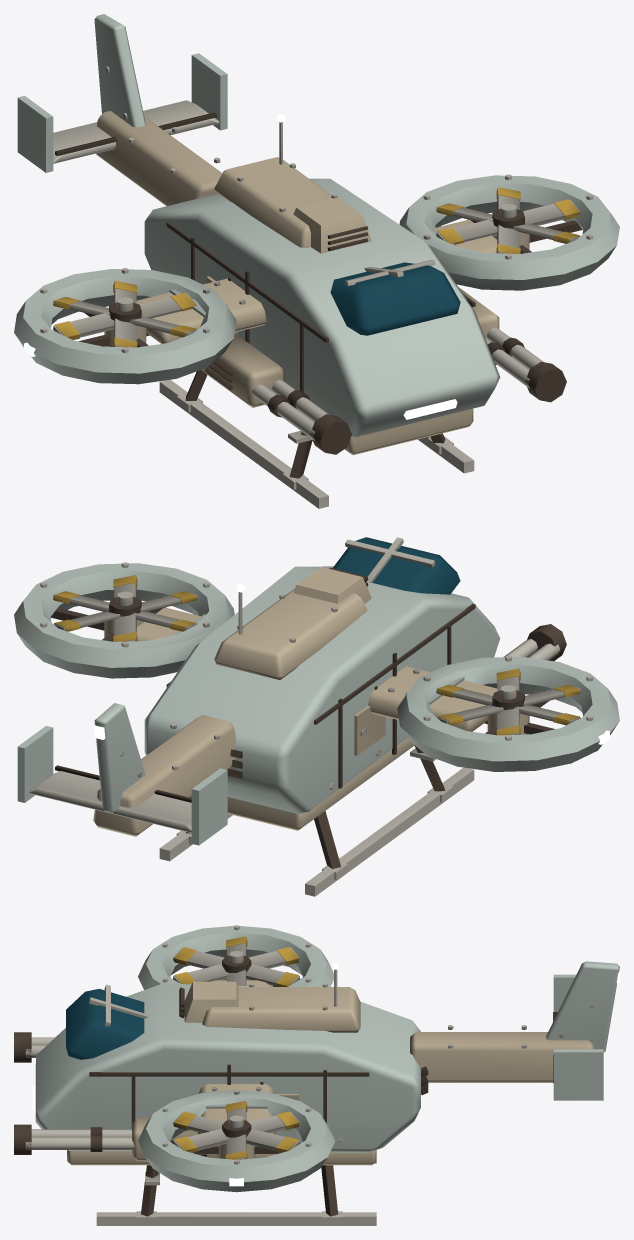
File: hawk.glb
The picture shows the model from 3 angles, top to bottom: view 1: azimuth 30°, elevation 25°; view 2: azimuth 150°, elevation 25°; view 3: azimuth 270°, elevation 25°; orthographic projection. The views are drawn at different scales.
Parts seen in each view (by area): view 1: Fuselage, Fan_ducts, Canopy, Tail_boom, Spine, Tail_plates, Skids.001, Tail_fin, Stub_wings, Gun_pods, Barrel_guns, Rotor_blades.001 (+12 smaller); view 2: Fuselage, Fan_ducts, Spine, Tail_boom, Tail_plates, Canopy, Stub_wings, Skids.001, Stabiliser, Tail_fin, Belly, Rotor_blades (+13 smaller); view 3: Fuselage, Fan_ducts, Tail_boom, Spine, Tail_fin, Canopy, Skids.001, Tail_plates, Rotor_blades.001, Rotor_blades, Barrel_guns, Panel_lines (+10 smaller).
Boxes of the visible parts, bbox=[...] form: Fuselage: bbox=[144, 178, 500, 437]; Fan_ducts: bbox=[14, 175, 619, 384]; Canopy: bbox=[330, 262, 460, 335]; Tail_boom: bbox=[96, 111, 221, 206]; Spine: bbox=[214, 157, 333, 247]; Tail_plates: bbox=[17, 53, 227, 172]; Skids.001: bbox=[159, 379, 474, 508]; Tail_fin: bbox=[94, 14, 145, 127]; Stub_wings: bbox=[136, 219, 497, 343]; Gun_pods: bbox=[202, 287, 499, 407]; Barrel_guns: bbox=[251, 327, 543, 440]; Rotor_blades.001: bbox=[436, 187, 580, 253]; Fuselage: bbox=[144, 566, 500, 813]; Fan_ducts: bbox=[14, 563, 619, 771]; Spine: bbox=[214, 589, 367, 679]; Tail_boom: bbox=[93, 715, 235, 836]; Tail_plates: bbox=[17, 726, 227, 845]; Canopy: bbox=[333, 537, 460, 594]; Stub_wings: bbox=[136, 607, 497, 731]; Skids.001: bbox=[159, 767, 474, 896]; Stabiliser: bbox=[29, 771, 191, 832]; Tail_fin: bbox=[94, 703, 145, 812]; Belly: bbox=[190, 738, 414, 830]; Rotor_blades: bbox=[436, 668, 580, 734]; Fuselage: bbox=[35, 983, 420, 1152]; Fan_ducts: bbox=[138, 926, 335, 1192]; Tail_boom: bbox=[410, 1032, 594, 1082]; Spine: bbox=[202, 987, 360, 1032]; Tail_fin: bbox=[546, 961, 619, 1052]; Canopy: bbox=[66, 988, 144, 1059]; Skids.001: bbox=[96, 1162, 376, 1225]; Tail_plates: bbox=[553, 974, 603, 1100]; Rotor_blades.001: bbox=[173, 1101, 300, 1159]; Rotor_blades: bbox=[173, 936, 300, 986]; Barrel_guns: bbox=[25, 1037, 134, 1149]; Panel_lines: bbox=[89, 1012, 557, 1128].
Bounding box in the file's own units: 3.98 × 1.78 × 4.11.
